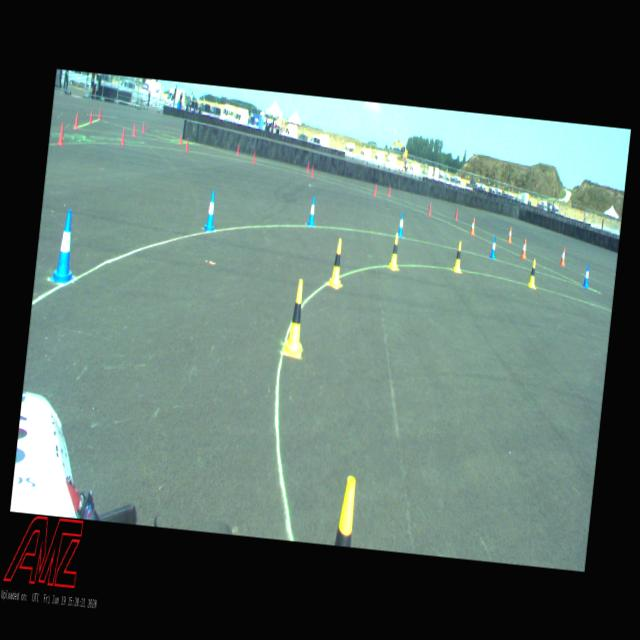blue_cone: (49, 208, 81, 284), (202, 190, 218, 232), (307, 196, 317, 226), (582, 263, 590, 287), (489, 235, 497, 258), (398, 212, 405, 237)
orange_cone: (520, 238, 527, 258), (559, 247, 566, 265), (469, 217, 475, 235), (507, 226, 512, 242)
yellow_cone: (282, 278, 308, 358), (328, 238, 346, 288), (388, 232, 400, 270), (452, 240, 463, 272), (527, 258, 537, 288)
